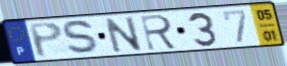3: (186, 10, 220, 48)
7: (220, 8, 249, 45)
N: (102, 15, 145, 54)
P: (26, 20, 66, 59)
R: (138, 13, 181, 52)
S: (61, 19, 104, 56)
